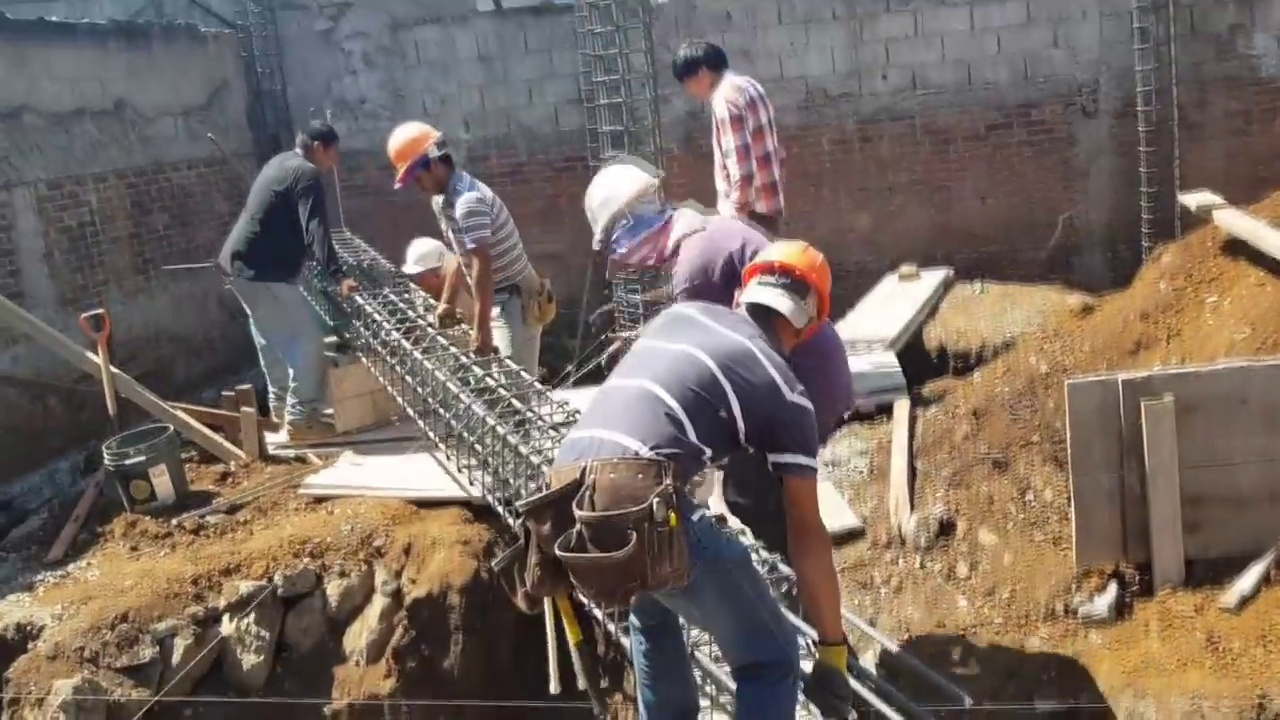helmet: (740, 237, 832, 347), (582, 157, 660, 249), (384, 120, 442, 189), (402, 235, 452, 280)
helmet-off: (678, 43, 730, 102), (295, 113, 337, 167)
helmet-on: (722, 235, 834, 358), (582, 160, 687, 280), (386, 116, 460, 209), (404, 238, 463, 296)
person: (548, 228, 882, 695), (584, 167, 858, 437), (383, 115, 545, 371), (222, 111, 346, 440), (666, 42, 782, 239)
